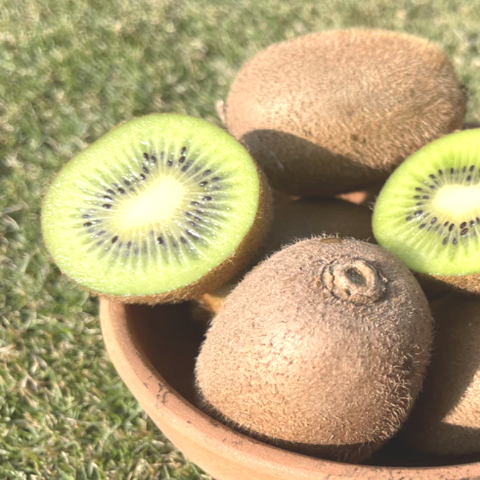kiwi: (185, 199, 448, 469), (200, 24, 473, 203)
